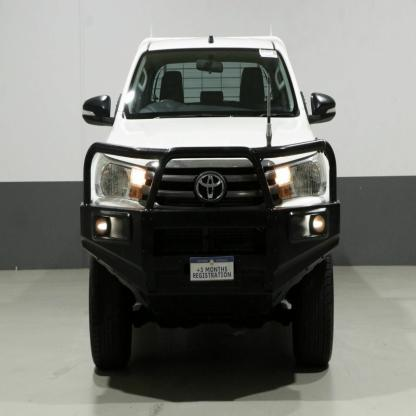light_vehicle: (66, 26, 341, 382)
